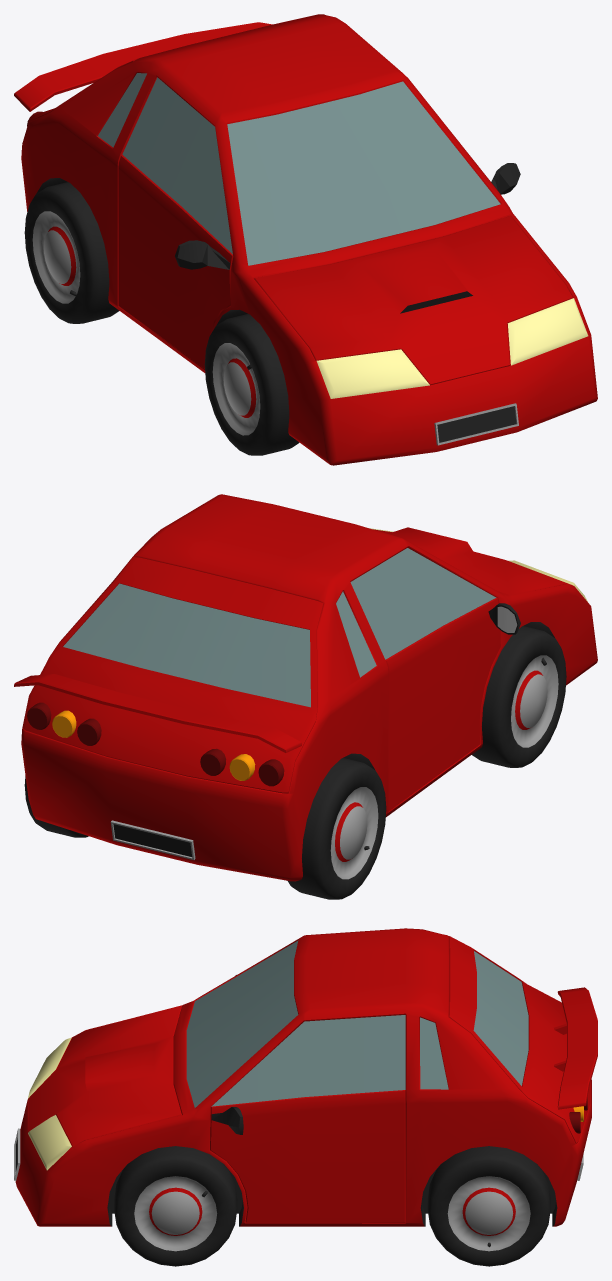
Rendered from Cartoon_SportCar_B01.fbx.
The picture shows the model from 3 angles, top to bottom: view 1: azimuth 30°, elevation 25°; view 2: azimuth 150°, elevation 25°; view 3: azimuth 270°, elevation 25°; orthographic projection. The views are drawn at different scales.
Visible parts, largest first — view 1: carrosserie, elements, hood, door_front_R, Tire_Back_R, Tire_Front_R, glass_front_R, spoiler, door_front_L; view 2: carrosserie, Trunk, door_front_R, Tire_Back_R, Tire_Front_R, glass_front_R, spoiler, hood, elements; view 3: carrosserie, door_front_L, elements, hood, Trunk, Tire_Back_L, Tire_Front_L, glass_front_L, spoiler.
Part boxes in pixels (box(x1,y1,x2,y2)): carrosserie: box(21, 14, 597, 465); elements: box(98, 73, 588, 445); hood: box(254, 216, 573, 385); door_front_R: box(118, 154, 233, 368); Tire_Back_R: box(24, 182, 119, 323); Tire_Front_R: box(204, 314, 299, 455); glass_front_R: box(122, 77, 232, 254); spoiler: box(14, 22, 272, 111); door_front_L: box(491, 163, 520, 194); carrosserie: box(21, 494, 597, 881); Trunk: box(22, 557, 323, 793); door_front_R: box(385, 597, 520, 811); Tire_Back_R: box(287, 758, 386, 899); Tire_Front_R: box(472, 626, 566, 767); glass_front_R: box(350, 548, 496, 659); spoiler: box(14, 674, 301, 752); hood: box(373, 527, 572, 595); elements: box(110, 528, 587, 859); carrosserie: box(15, 928, 591, 1226); door_front_L: box(210, 1090, 405, 1222); elements: box(14, 940, 583, 1180); hood: box(28, 1006, 181, 1146); Trunk: box(448, 936, 590, 1143); Tire_Back_L: box(427, 1146, 550, 1266); Tire_Front_L: box(114, 1146, 237, 1266); glass_front_L: box(211, 1015, 405, 1106); spoiler: box(554, 987, 597, 1109).
Bounding box in the file's own units: 190 × 146 × 322.
